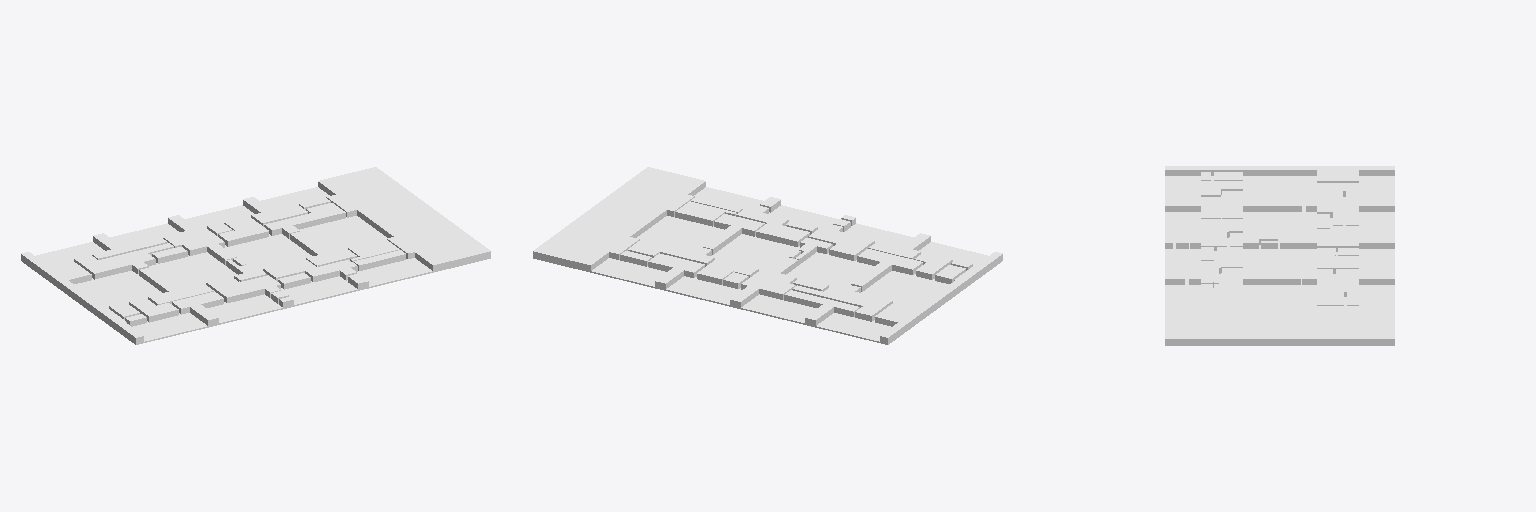
File: KitBackground-1-KitMenu.obj
3 views of the same model, side by side, from view 1: azimuth 30°, elevation 25°; view 2: azimuth 150°, elevation 25°; view 3: azimuth 270°, elevation 25° (orthographic).
Visible parts, largest first — view 1: KitMenu; view 2: KitMenu; view 3: KitMenu.
Boxes of the visible parts, x1=… form: KitMenu: x1=21, y1=167, x2=490, y2=344; KitMenu: x1=533, y1=167, x2=1002, y2=344; KitMenu: x1=1165, y1=166, x2=1394, y2=345.
Size of the model in its own units: 25.6 by 0.5 by 14.4.